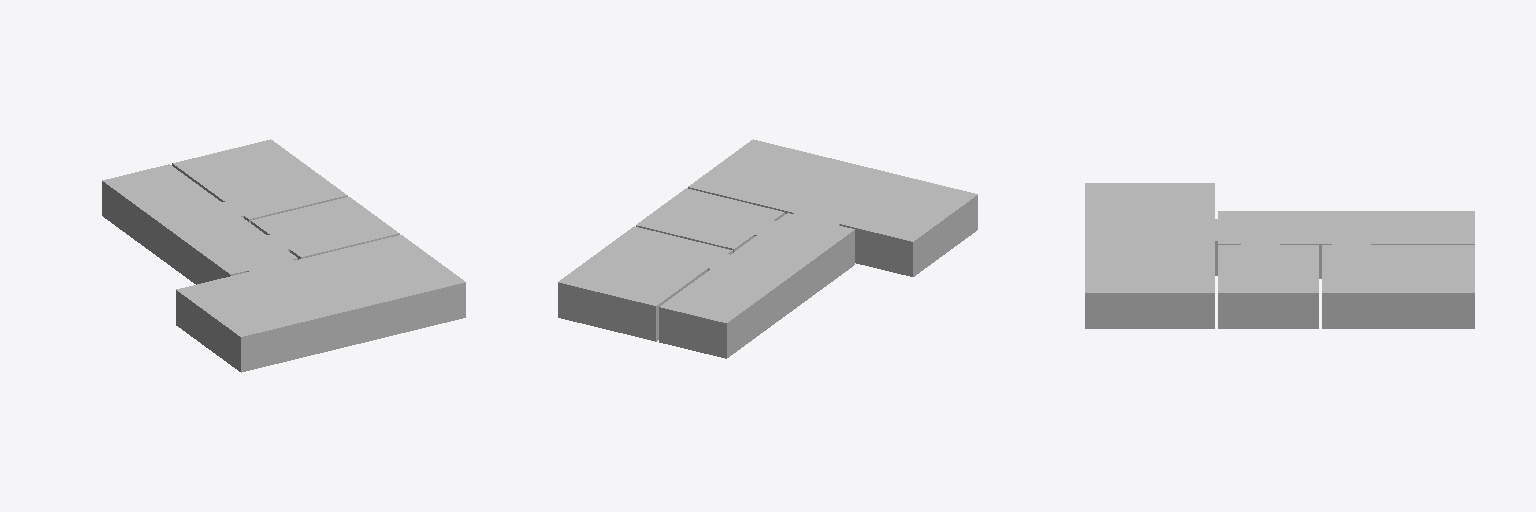
The model's file is Layout.All files.obj.
3 views of the same model, side by side, from view 1: azimuth 30°, elevation 25°; view 2: azimuth 150°, elevation 25°; view 3: azimuth 270°, elevation 25° (orthographic).
Parts seen in each view (by area): view 1: Ceiling1Mat, Walls1Mat; view 2: Ceiling1Mat, Walls1Mat; view 3: Ceiling1Mat, Walls1Mat.
Part boxes in pixels (x1,y1,x2,y2): Ceiling1Mat: (102,139,464,336); Walls1Mat: (102,163,465,372); Ceiling1Mat: (559,139,977,322); Walls1Mat: (558,187,977,358); Ceiling1Mat: (1085,183,1474,292); Walls1Mat: (1085,241,1474,328).
Bounding box in the file's own units: 20 × 3 × 30.